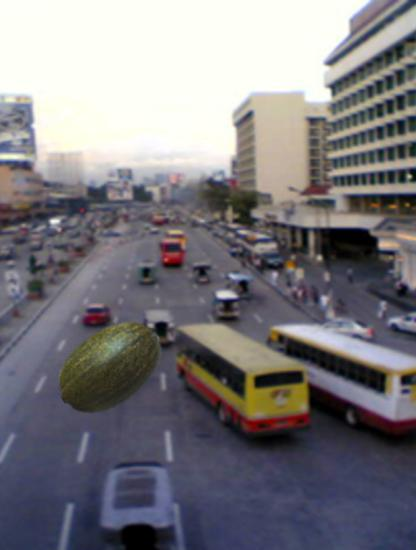Melon: (53, 310, 168, 425)
